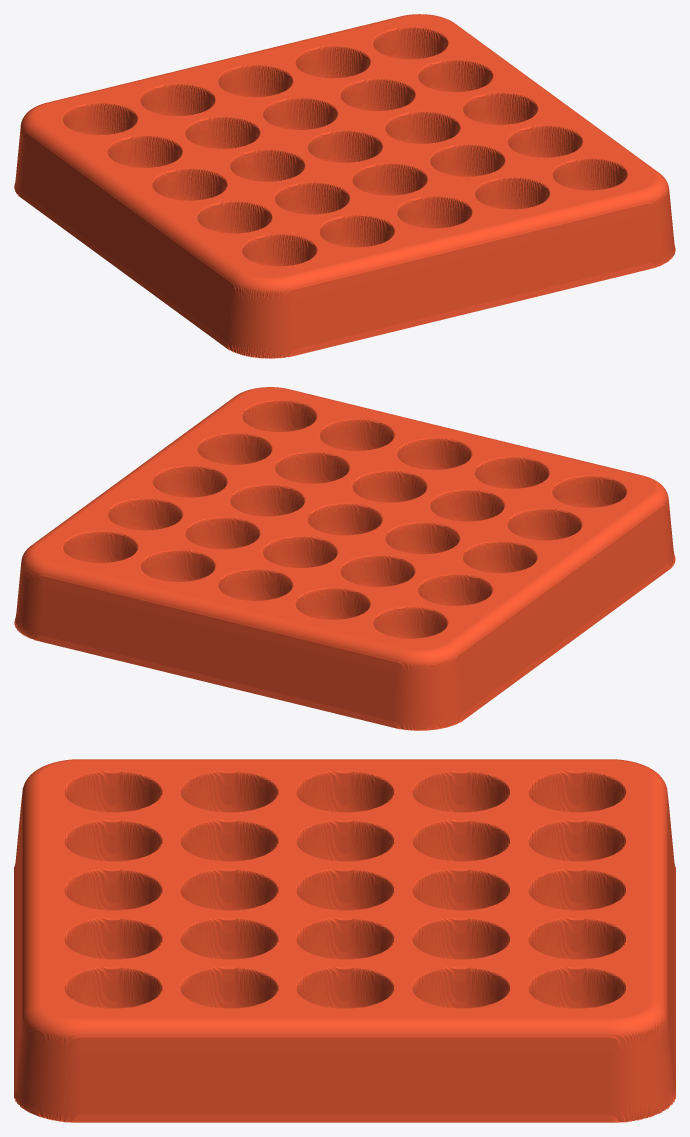
File: mold.glb
The picture shows the model from 3 angles, top to bottom: view 1: azimuth 30°, elevation 25°; view 2: azimuth 150°, elevation 25°; view 3: azimuth 270°, elevation 25°; orthographic projection. The views are drawn at different scales.
Parts seen in each view (by area): view 1: geometry_0; view 2: geometry_0; view 3: geometry_0.
Boxes of the visible parts, left/top/right/bottom form: geometry_0: left=14, top=14, right=675, bottom=358; geometry_0: left=14, top=387, right=675, bottom=730; geometry_0: left=14, top=759, right=675, bottom=1122.
Bounding box in the file's own units: 0.0902 × 0.014 × 0.0902.
